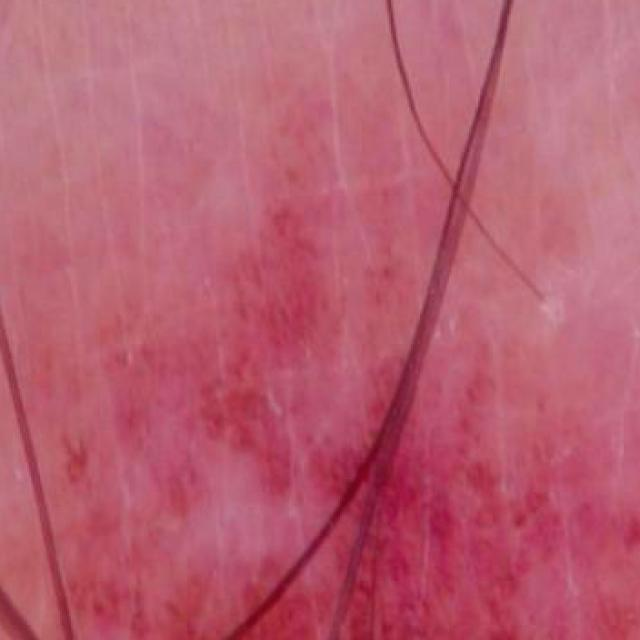NV: (69, 194, 624, 640)
